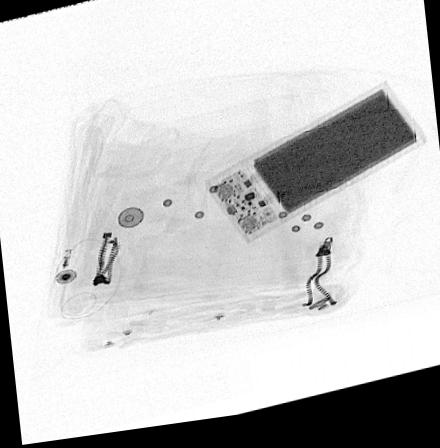Powerbank: (206, 91, 426, 250)
